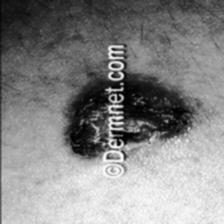Toxin: (128, 82, 190, 148), (66, 84, 104, 164)
